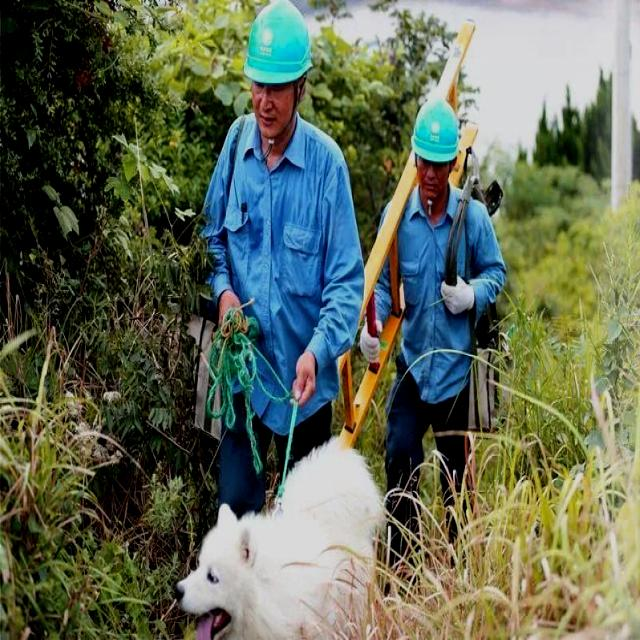face_nomask: (252, 76, 295, 137), (415, 152, 449, 205)
hand_glove: (435, 273, 478, 320), (358, 315, 384, 374)
hand_noglove: (288, 349, 319, 406), (214, 286, 241, 341)
head_helmet: (242, 5, 306, 82), (413, 102, 458, 153)
person: (220, 1, 338, 436), (385, 106, 484, 499)
